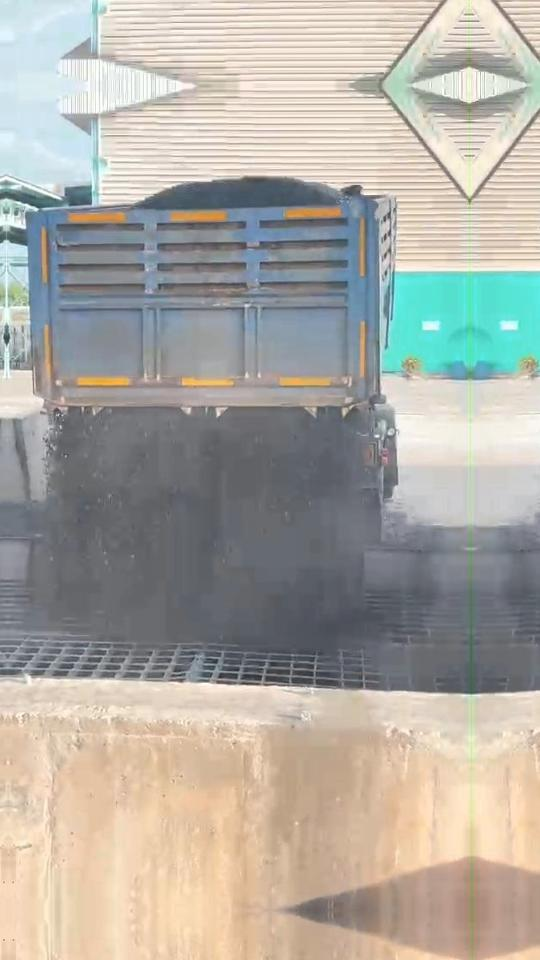gravel: (7, 398, 397, 647), (136, 177, 337, 210), (402, 526, 448, 550)
